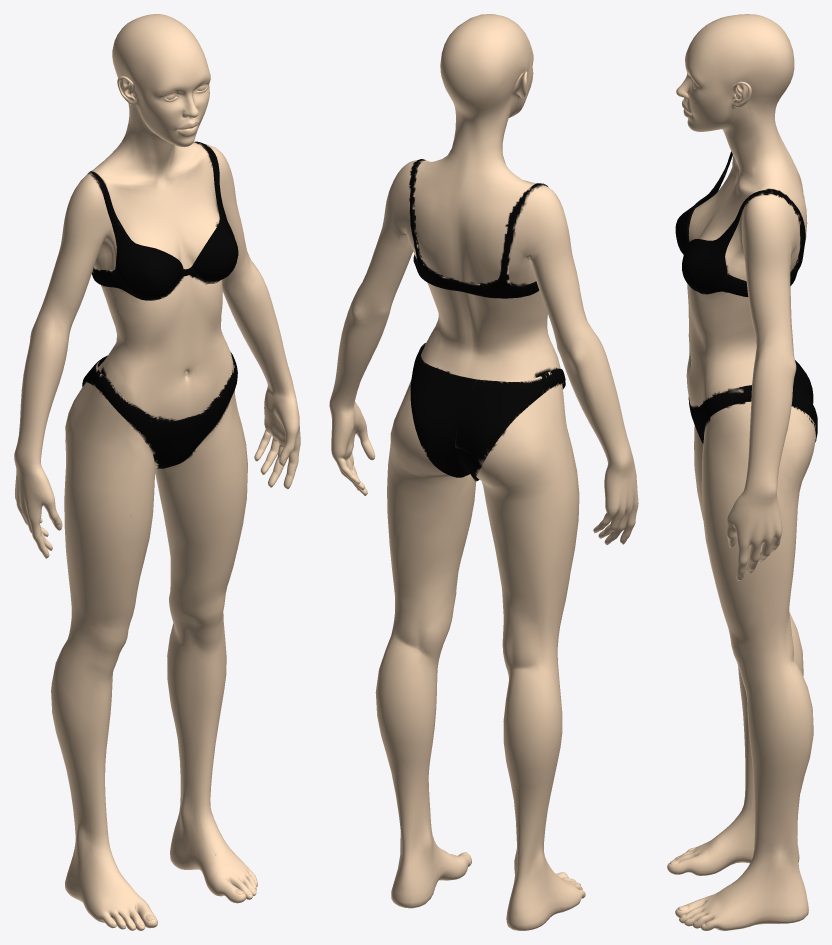
Rendered from Female1.fbx.
3 views of the same model, side by side, from view 1: azimuth 30°, elevation 25°; view 2: azimuth 150°, elevation 25°; view 3: azimuth 270°, elevation 25° (orthographic).
Parts seen in each view (by area): view 1: node_id4; view 2: node_id4; view 3: node_id4.
Part boxes in pixels (<box>): node_id4: <box>14,14,300,930</box>; node_id4: <box>329,14,638,930</box>; node_id4: <box>667,14,817,930</box>.
Bounding box in the file's own units: 0.1749 × 0.512 × 0.0798.
Materials: 1 (1 with a texture image).
